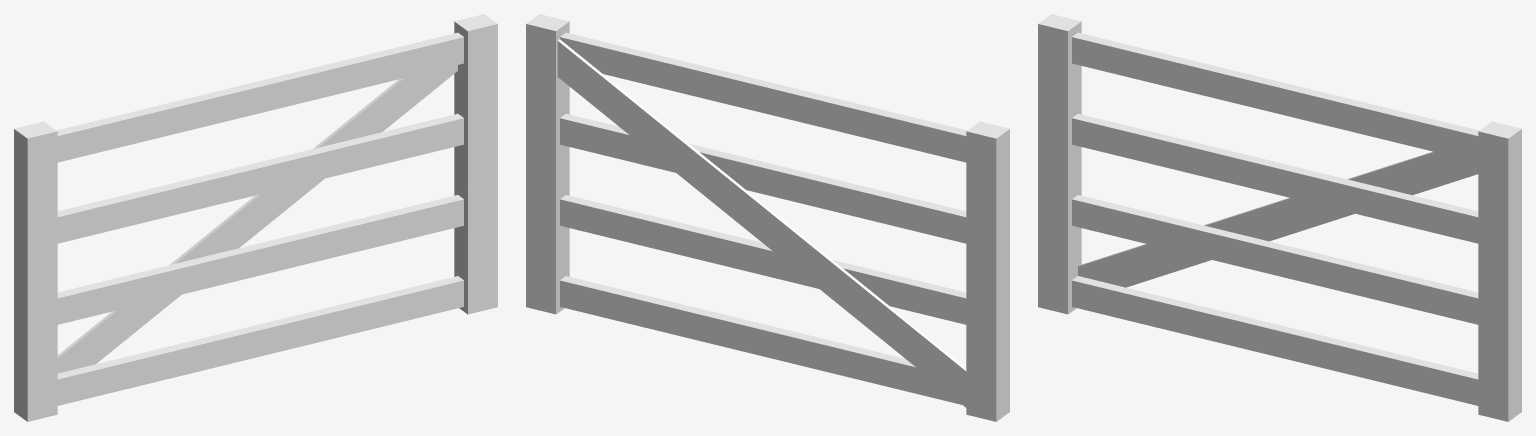
The model's file is Bld_01_Fence_Wood_Gate_Single_Long_01.glb.
3 renders of one model, left to right at view 1: azimuth 30°, elevation 25°; view 2: azimuth 150°, elevation 25°; view 3: azimuth 330°, elevation 25°, orthographic.
Parts seen in each view (by area): view 1: Bld_01_Fence_Wood_Gate_Single_Long_01; view 2: Bld_01_Fence_Wood_Gate_Single_Long_01; view 3: Bld_01_Fence_Wood_Gate_Single_Long_01.
Part boxes in pixels (x1,y1,x2,y2): Bld_01_Fence_Wood_Gate_Single_Long_01: [14, 14, 497, 421]; Bld_01_Fence_Wood_Gate_Single_Long_01: [526, 14, 1009, 421]; Bld_01_Fence_Wood_Gate_Single_Long_01: [1038, 14, 1521, 421].
Bounding box in the file's own units: 1.8 × 1.04 × 0.0898.
Materials: 1 (1 with a texture image).
